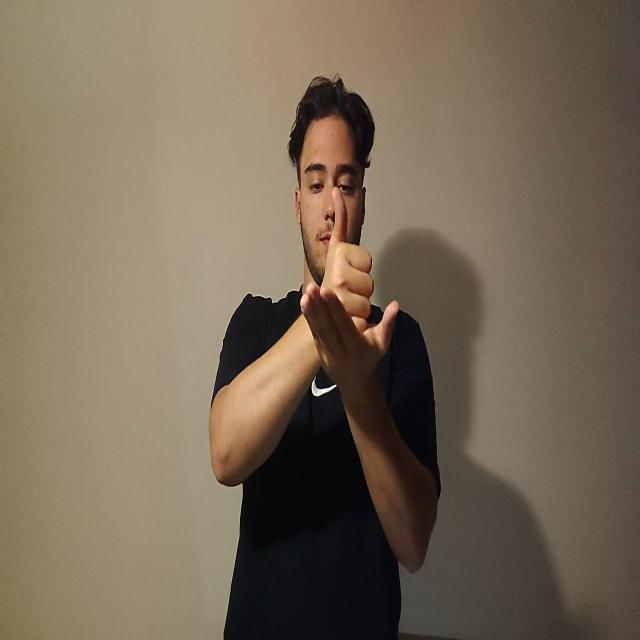help: (301, 190, 402, 387)
